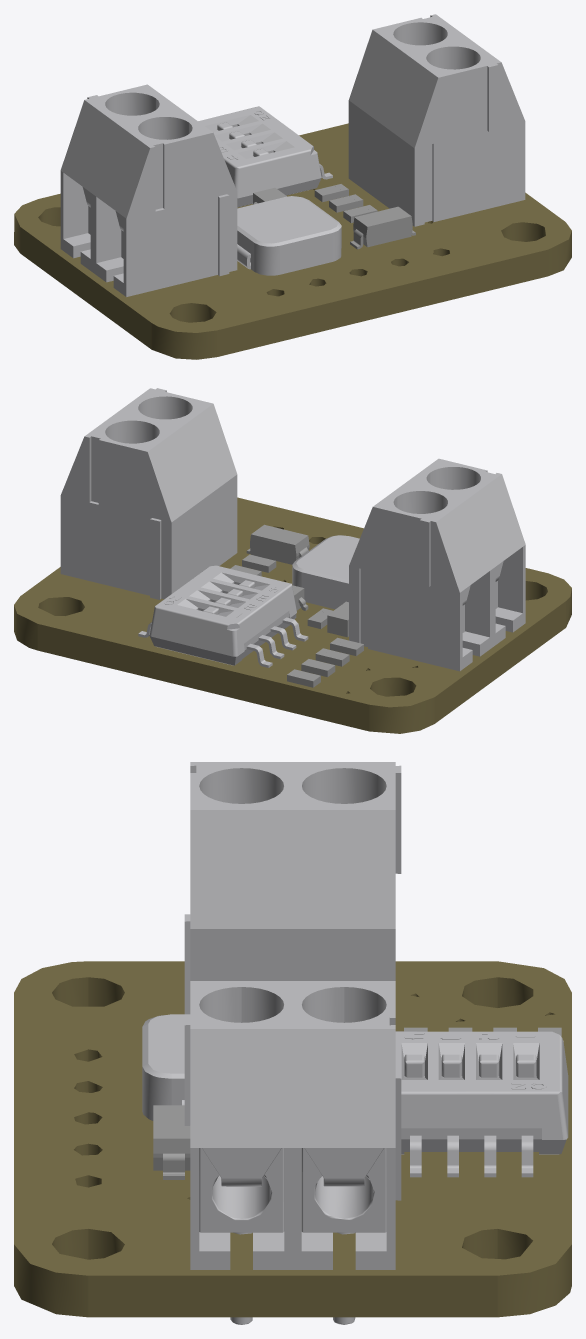
File: ada-6354.glb
3 views of the same model, one above another, from view 1: azimuth 30°, elevation 25°; view 2: azimuth 150°, elevation 25°; view 3: azimuth 270°, elevation 25° (orthographic). The views are drawn at different scales.
Parts seen in each view (by area): view 1: 0.5833333333333334_0.5833333333333334_0.5833333333333334_0.8, 0.16666666666666666_0.16666666666666666_0.08333333333333333_, 0.3333333333333333_0.3333333333333333_0.3333333333333333_0; view 2: 0.5833333333333334_0.5833333333333334_0.5833333333333334_0.8, 0.16666666666666666_0.16666666666666666_0.08333333333333333_, 0.3333333333333333_0.3333333333333333_0.3333333333333333_0; view 3: 0.5833333333333334_0.5833333333333334_0.5833333333333334_0.8, 0.16666666666666666_0.16666666666666666_0.08333333333333333_, 0.3333333333333333_0.3333333333333333_0.3333333333333333_0.
Boxes of the visible parts, x1,y1,x2,y2 form: 0.5833333333333334_0.5833333333333334_0.5833333333333334_0.8: (60, 14, 525, 296); 0.16666666666666666_0.16666666666666666_0.08333333333333333_: (14, 123, 571, 359); 0.3333333333333333_0.3333333333333333_0.3333333333333333_0: (253, 184, 415, 249); 0.5833333333333334_0.5833333333333334_0.5833333333333334_0.8: (60, 388, 525, 671); 0.16666666666666666_0.16666666666666666_0.08333333333333333_: (14, 497, 571, 733); 0.3333333333333333_0.3333333333333333_0.3333333333333333_0: (230, 524, 363, 687); 0.5833333333333334_0.5833333333333334_0.5833333333333334_0.8: (142, 762, 568, 1324); 0.16666666666666666_0.16666666666666666_0.08333333333333333_: (14, 961, 571, 1317); 0.3333333333333333_0.3333333333333333_0.3333333333333333_0: (153, 1027, 561, 1179).
Size of the model in its own units: 2.54 by 1.19 by 1.9.
